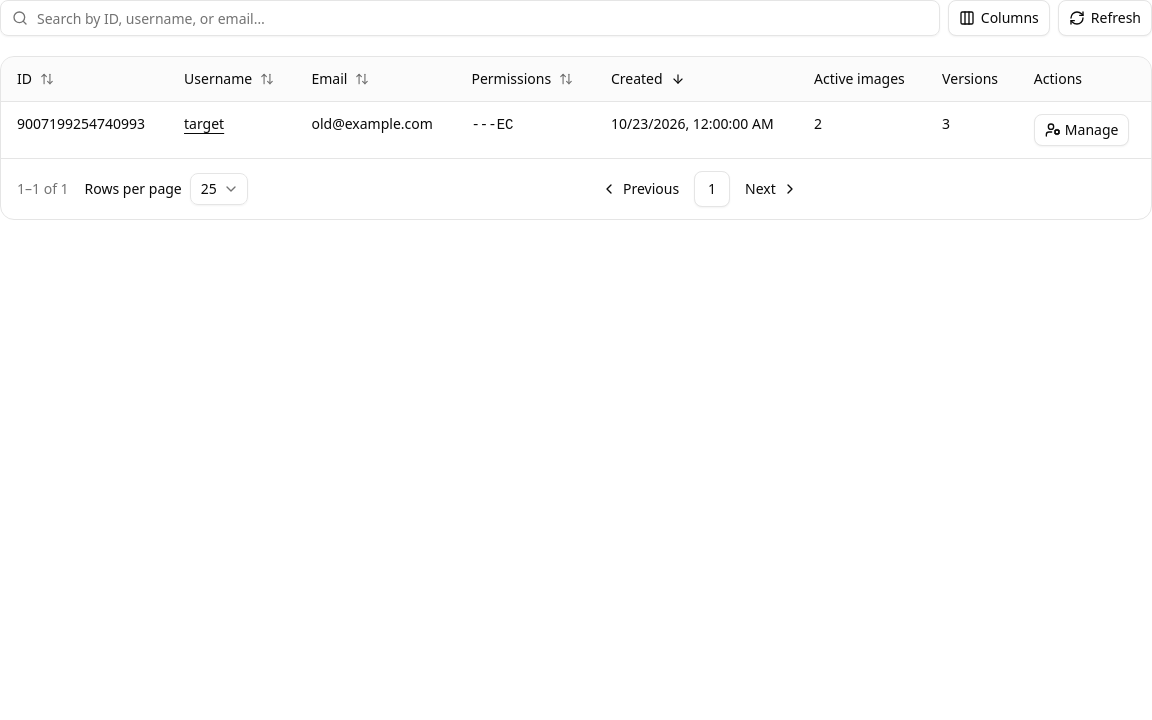
Test: limits transfers to editable permissions for permission 3
Click the button with aria-label "Manage target" at (1082, 130), box [1034, 114, 1130, 146]
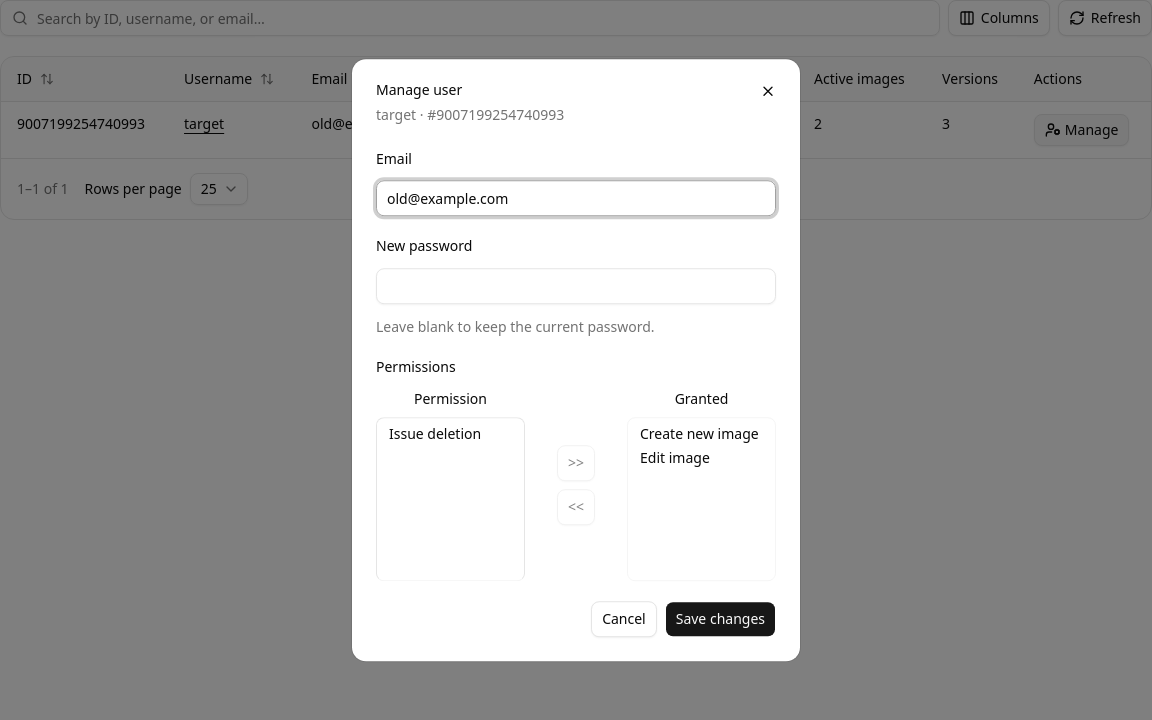
Now the field labelled "Email" holds "old@example.com", box [376, 180, 776, 216]
Click the button "Issue deletion" at (450, 434), box [381, 422, 520, 446]
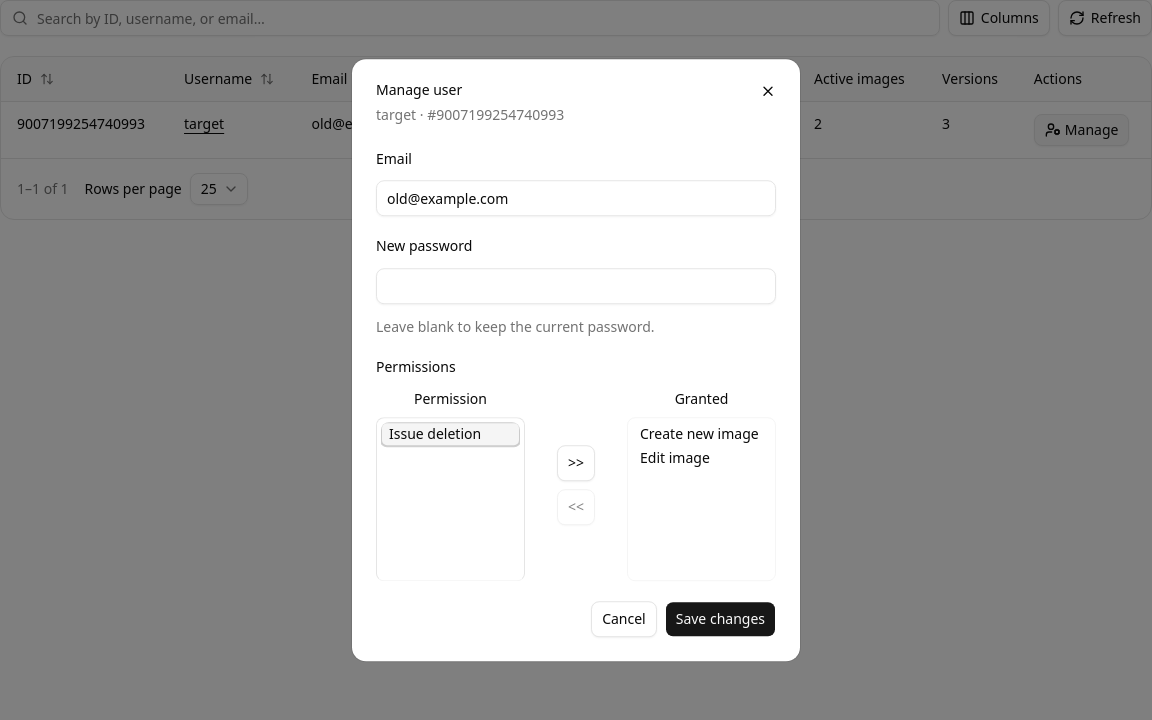
Click the button named "Grant selected permissions" at (576, 463), box [557, 445, 595, 481]
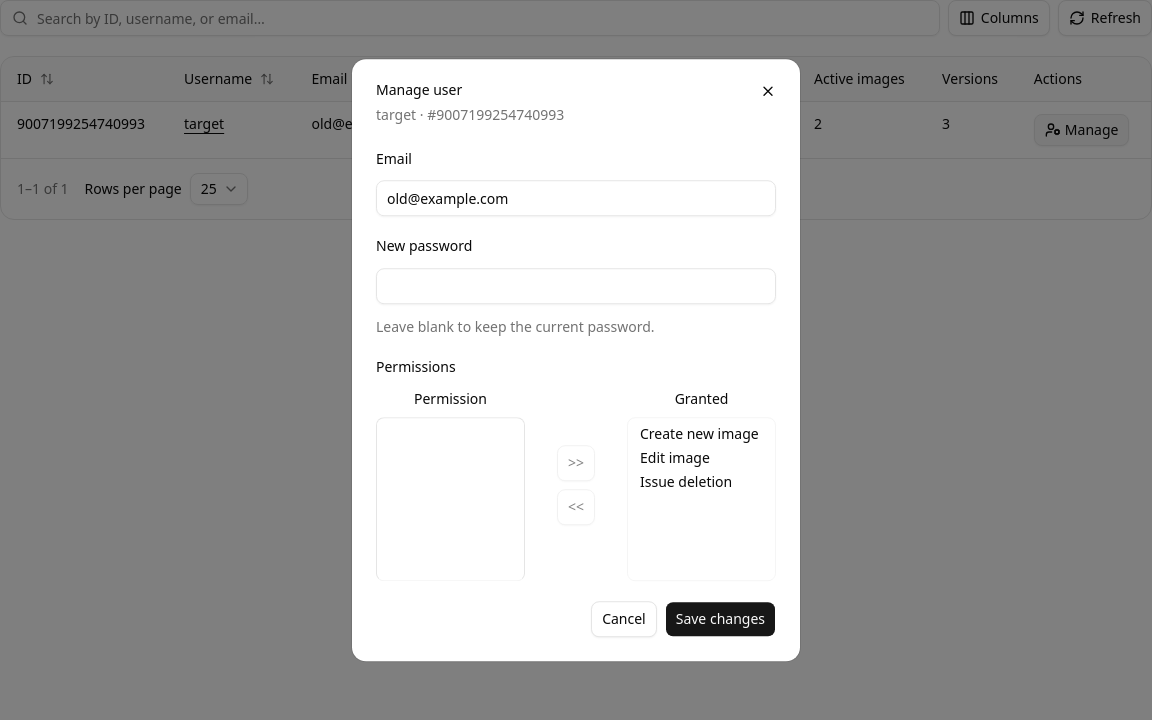
Now the button "Issue deletion" is shown, box [632, 470, 771, 494]
Click the button "Save changes" at (720, 619), box [665, 601, 776, 637]
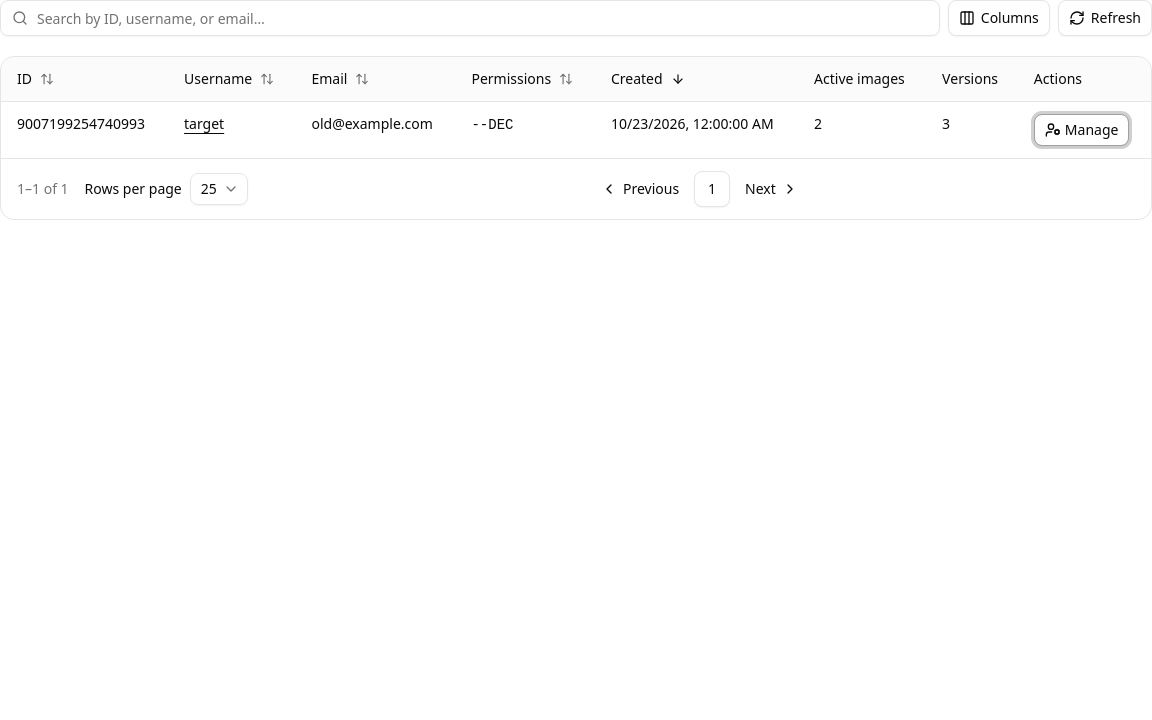
Now the dialog is gone
